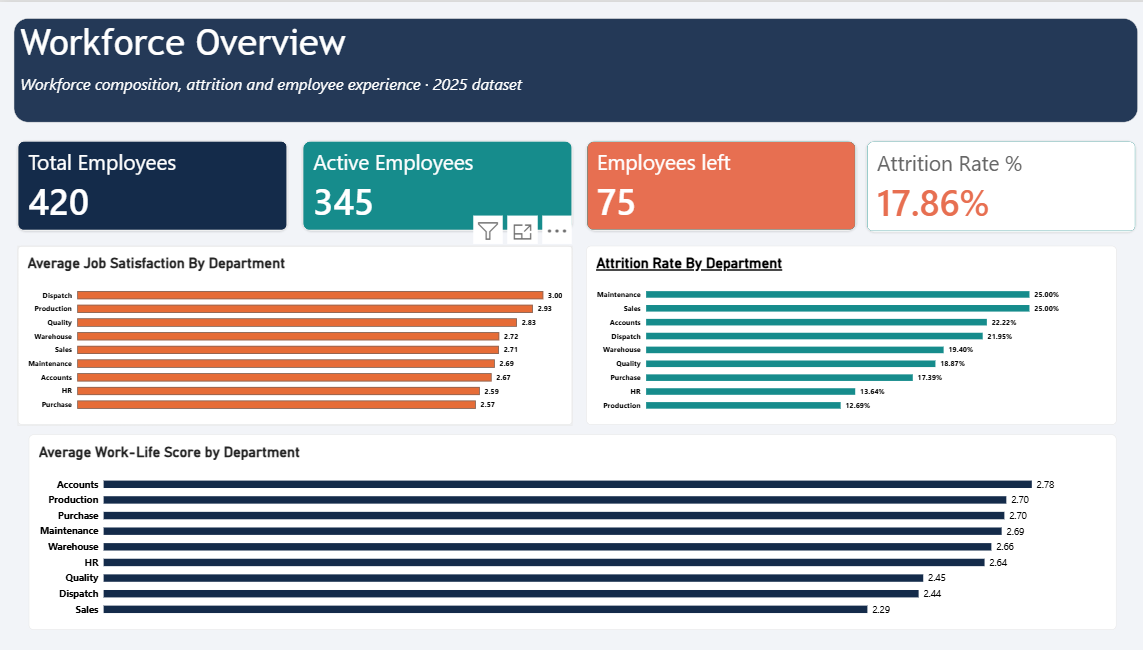

What the dashboard file says about the page in this screenshot:
{"tool":"powerbi","page":{"name":"Workforce Overview","canvas":[1920,1080],"ordinal":0},"visuals":[{"type":"cardVisual","fields":{"Data":["Employees.Total Employees"]},"box":[29.1,230.9,450,150],"z":0},{"type":"cardVisual","fields":{"Data":["Employees.Active Employees"]},"box":[503.6,230.9,450,150],"z":1000},{"type":"cardVisual","fields":{"Data":["Employees.Employees left"]},"box":[976.4,230.9,450,150],"z":2000},{"type":"cardVisual","title":"Attr","fields":{"Data":["Employees.Attrition Rate %"]},"box":[1443.6,230.9,450,152.7],"z":3000},{"type":"clusteredBarChart","title":"Attrition Rate By Department","fields":{"Category":["Employees.Department"],"Y":["Employees.Attrition Rate %"]},"box":[976.4,407.3,883.6,298.2],"z":4000},{"type":"clusteredBarChart","title":"Average Job Satisfaction By Department","fields":{"Category":["Employees.Department"],"Y":["Avg(Employees.JobSatisfactionScore)"]},"box":[29.1,407.3,925.5,298.2],"z":5000},{"type":"clusteredBarChart","title":"Average Work-Life Score by Department","fields":{"Category":["Employees.Department"],"Y":["Avg(Employees.WorkLifeBalanceScore)"]},"box":[47.3,720,1812.7,325.5],"z":6000},{"type":"textbox","title":" Workforce Overview","box":[23.3,26.7,1873.3,173.3],"z":7000}]}

Visuals, with their boxes in screenshot pixels (x1, y1, x2, y2), scaled from the page's 1920x1080 canvas onto the 1143x650 screenshot:
cardVisual - Employees.Total Employees: crop(17, 139, 285, 229)
cardVisual - Employees.Active Employees: crop(300, 139, 568, 229)
cardVisual - Employees.Employees left: crop(581, 139, 849, 229)
"Attr" cardVisual: crop(859, 139, 1127, 231)
"Attrition Rate By Department" clusteredBarChart: crop(581, 245, 1107, 425)
"Average Job Satisfaction By Department" clusteredBarChart: crop(17, 245, 568, 425)
"Average Work-Life Score by Department" clusteredBarChart: crop(28, 433, 1107, 629)
" Workforce Overview" textbox: crop(14, 16, 1129, 120)
